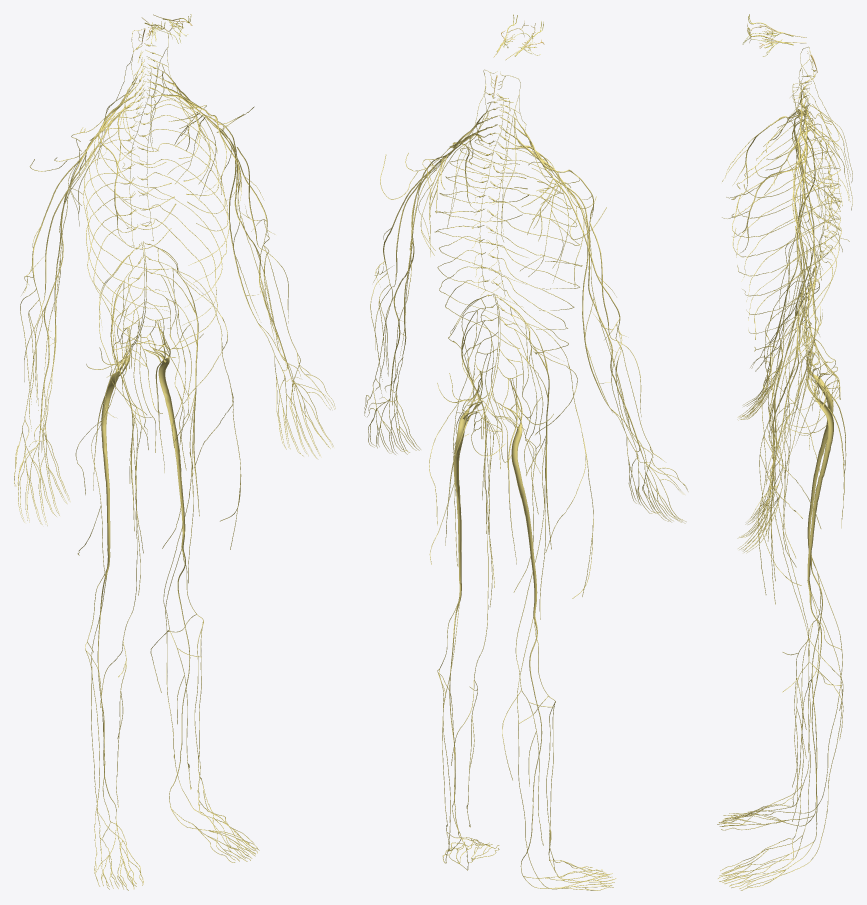
Rendered from body-nerves.lod0.glb.
3 renders of one model, left to right at view 1: azimuth 30°, elevation 25°; view 2: azimuth 150°, elevation 25°; view 3: azimuth 270°, elevation 25°, orthographic. The views are drawn at different scales.
Parts seen in each view (by area): view 1: intercostal-nerves-r, intercostal-nerves-l, sciatic-nerve-l, sciatic-nerve-r, saphenous-nerve-l; view 2: intercostal-nerves-l, intercostal-nerves-r, sciatic-nerve-r, sciatic-nerve-l, saphenous-nerve-l, saphenous-nerve-r; view 3: intercostal-nerves-l, intercostal-nerves-r, sciatic-nerve-l, sciatic-nerve-r, saphenous-nerve-l, saphenous-nerve-r, lateral-femoral-cutaneous-nerve-l, median-nerve-l, femoral-nerve-l, lateral-femoral-cutaneous-nerve-r, ulnar-nerve-l, tibial-nerve-l (+6 smaller).
Boxes of the visible parts, x1,y1,x2,y2 form: intercostal-nerves-r: (83,101,176,346); intercostal-nerves-l: (143,95,229,342); sciatic-nerve-l: (143,320,185,545); sciatic-nerve-r: (101,328,130,564); saphenous-nerve-l: (150,391,195,789); intercostal-nerves-l: (434,139,528,348); intercostal-nerves-r: (493,148,582,354); sciatic-nerve-r: (496,378,537,613); sciatic-nerve-l: (453,371,481,594); saphenous-nerve-l: (451,413,490,827); saphenous-nerve-r: (502,439,545,845); intercostal-nerves-l: (732,128,841,351); intercostal-nerves-r: (731,115,841,339); sciatic-nerve-l: (806,353,833,588); sciatic-nerve-r: (806,343,833,553); saphenous-nerve-l: (770,425,843,821); saphenous-nerve-r: (772,403,843,787); lateral-femoral-cutaneous-nerve-l: (757,304,821,594); median-nerve-l: (771,172,805,475); femoral-nerve-l: (767,286,810,541); lateral-femoral-cutaneous-nerve-r: (759,280,820,535); ulnar-nerve-l: (779,165,816,445); tibial-nerve-l: (809,588,821,840).
Size of the model in its own units: 0.6475 by 1.63 by 0.2419.
